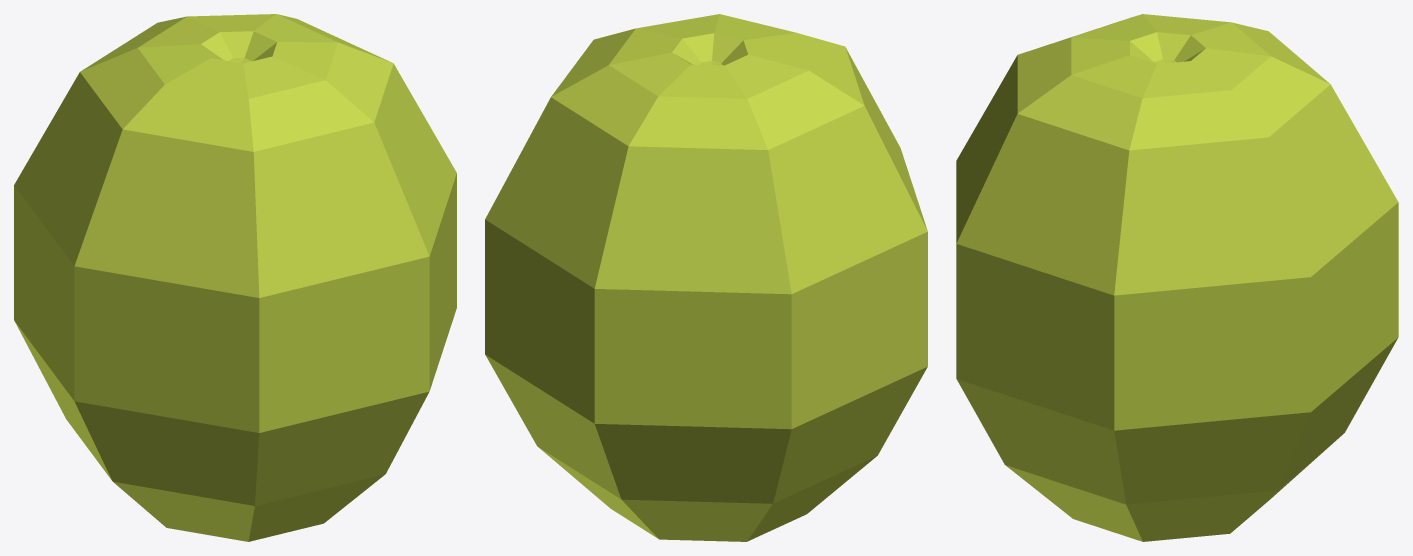
File: muscat.fbx
The picture shows the model from 3 angles, left to right: view 1: azimuth 30°, elevation 25°; view 2: azimuth 150°, elevation 25°; view 3: azimuth 270°, elevation 25°; orthographic projection.
Parts seen in each view (by area): view 1: 円; view 2: 円; view 3: 円.
Part boxes in pixels (bbox=[...]): 円: bbox=[14, 14, 456, 541]; 円: bbox=[485, 14, 927, 541]; 円: bbox=[956, 14, 1398, 541].
Size of the model in its own units: 250 by 290 by 250.
